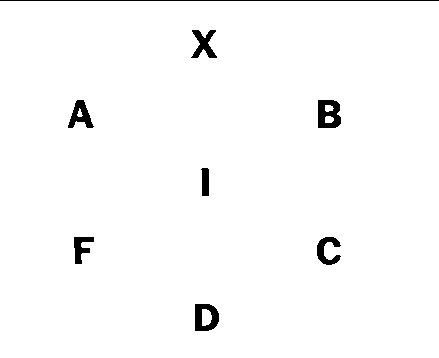I: (193, 161, 219, 204)
